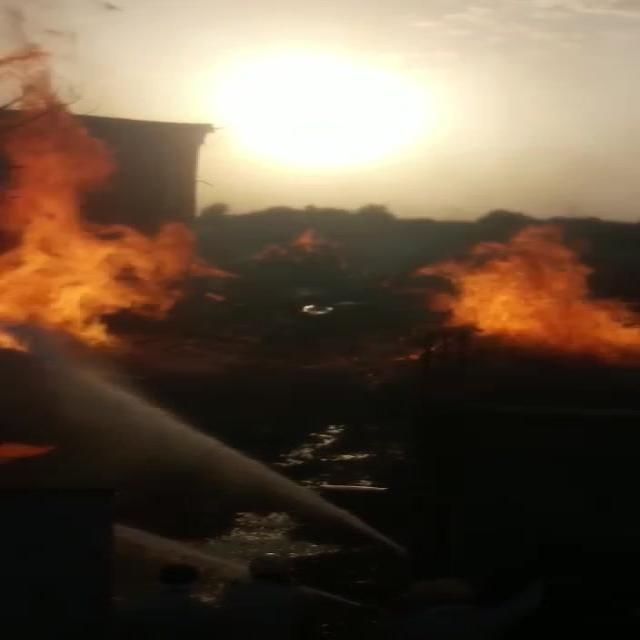firerotation: (0, 45, 236, 355), (409, 217, 636, 364)
